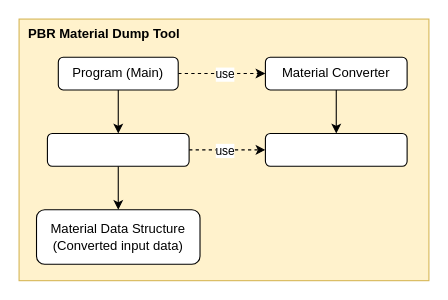
The diagram is 448 pixels wide and 300 high, and some of its shapes have lost their labels. The shapes that lost their labels are listed below. From the top down, each one's centre as x and y in pixels, then its label:
At pixel 117 149: "Material File Loader".
At pixel 335 149: "Material File Saver".
